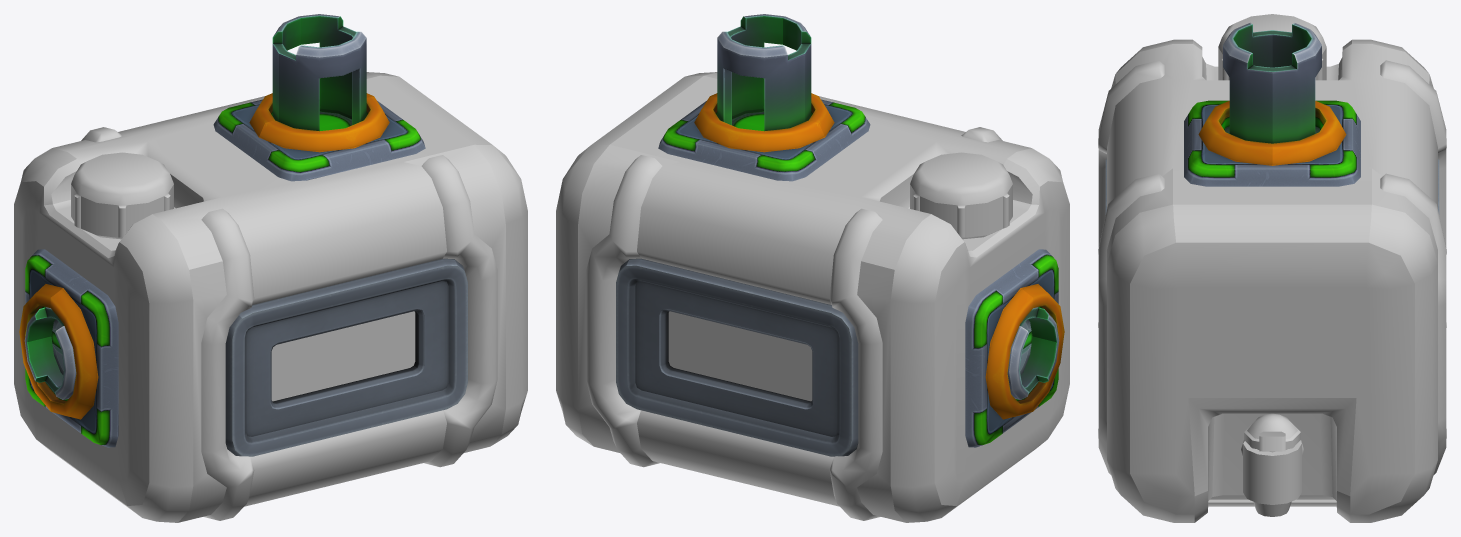
Rendered from obj_containers_water_pose0.fbx.
The picture shows the model from 3 angles, left to right: view 1: azimuth 30°, elevation 25°; view 2: azimuth 150°, elevation 25°; view 3: azimuth 270°, elevation 25°; orthographic projection. The views are drawn at different scales.
Parts seen in each view (by area): view 1: obj_containers_water_pose00; view 2: obj_containers_water_pose00; view 3: obj_containers_water_pose00.
Boxes of the visible parts, bbox=[...] form: obj_containers_water_pose00: bbox=[14, 14, 527, 522]; obj_containers_water_pose00: bbox=[556, 14, 1069, 522]; obj_containers_water_pose00: bbox=[1098, 14, 1446, 522].
Bounding box in the file's own units: 4.71 × 4.03 × 2.94.
